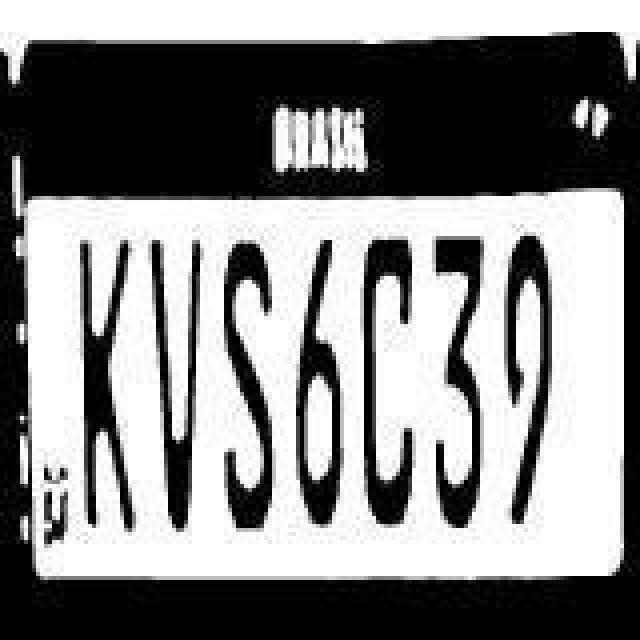3: (426, 222, 494, 538)
6: (284, 230, 356, 538)
9: (496, 224, 568, 536)
C: (356, 228, 420, 540)
K: (74, 238, 150, 546)
S: (212, 236, 284, 540)
V: (146, 230, 206, 546)
